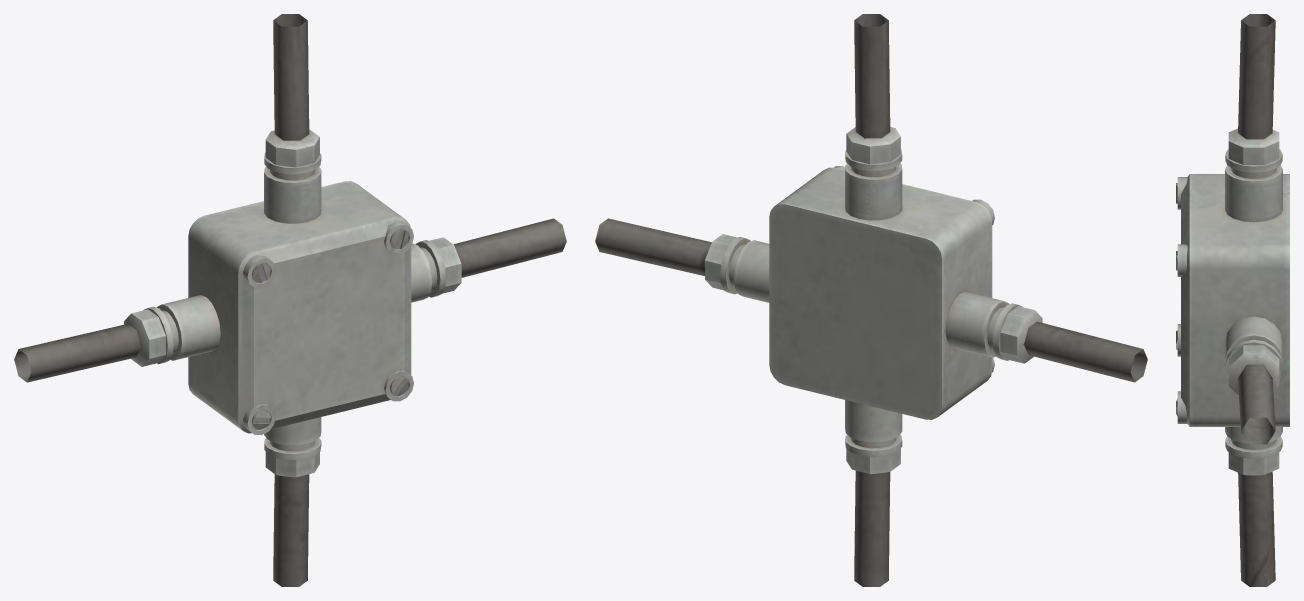
The model's file is kablo_box_4way.gltf.
The picture shows the model from 3 angles, left to right: view 1: azimuth 30°, elevation 25°; view 2: azimuth 150°, elevation 25°; view 3: azimuth 270°, elevation 25°; orthographic projection.
Parts seen in each view (by area): view 1: kablo_box_4way; view 2: kablo_box_4way; view 3: kablo_box_4way.
Part boxes in pixels (x1,y1,x2,y2): kablo_box_4way: [14, 14, 566, 586]; kablo_box_4way: [595, 14, 1147, 586]; kablo_box_4way: [1176, 14, 1289, 586].
Size of the model in its own units: 0.2 by 0.2 by 0.0369.
Materials: 1 (1 with a texture image).
